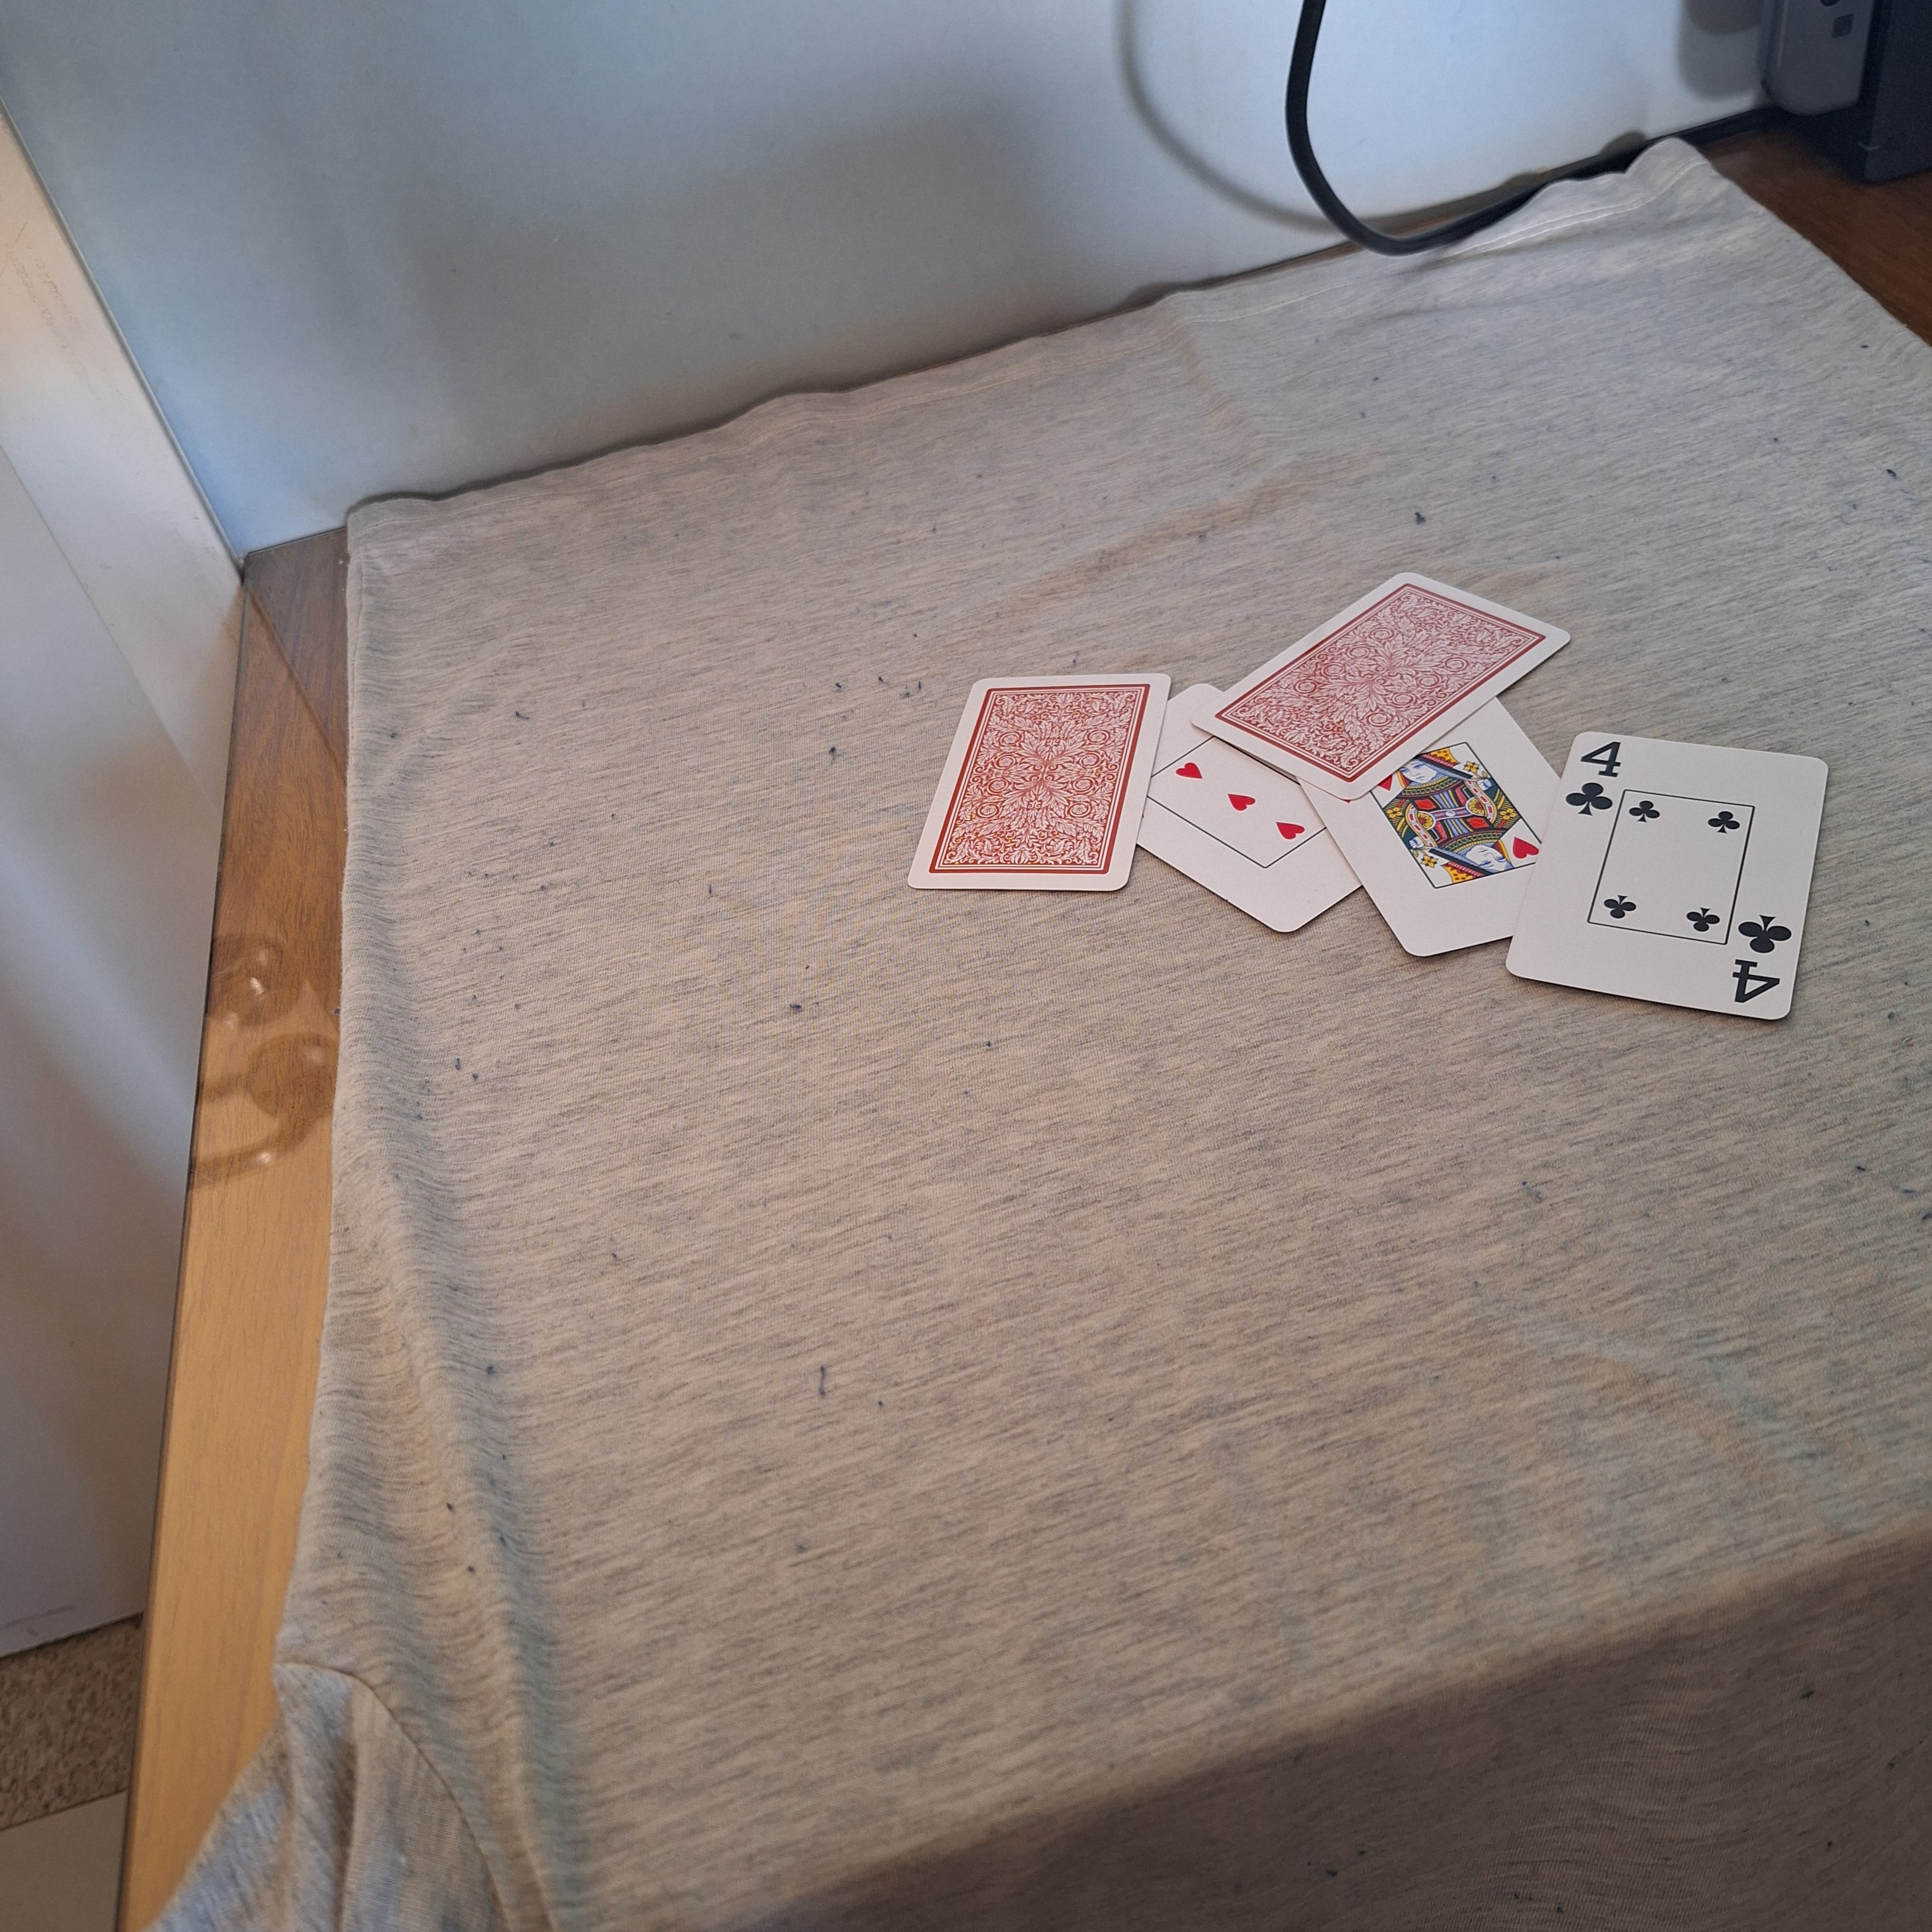4P: (1725, 904, 1799, 1008), (1560, 736, 1629, 826)
